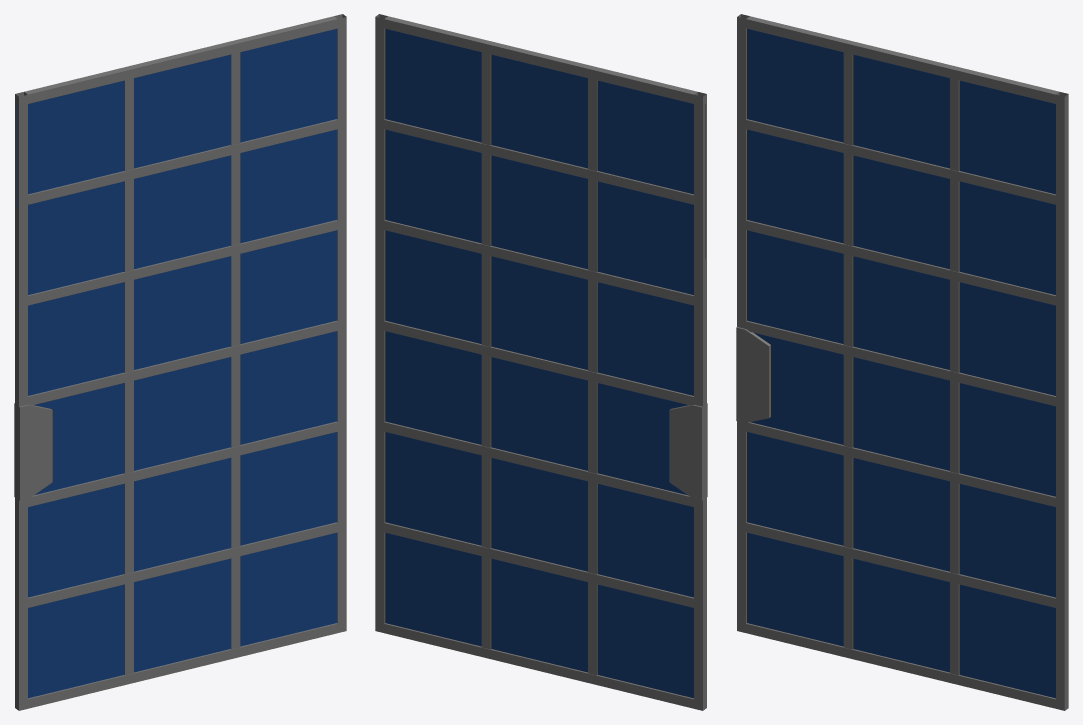
Rendered from door2.FBX.
3 views of the same model, side by side, from view 1: azimuth 30°, elevation 25°; view 2: azimuth 150°, elevation 25°; view 3: azimuth 330°, elevation 25° (orthographic).
Visible parts, largest first — view 1: door2; view 2: door2; view 3: door2.
Part boxes in pixels (x1=…): door2: x1=14, y1=14, x2=346, y2=710; door2: x1=375, y1=14, x2=707, y2=710; door2: x1=736, y1=14, x2=1068, y2=710.
Size of the model in its own units: 165 by 5 by 295.
